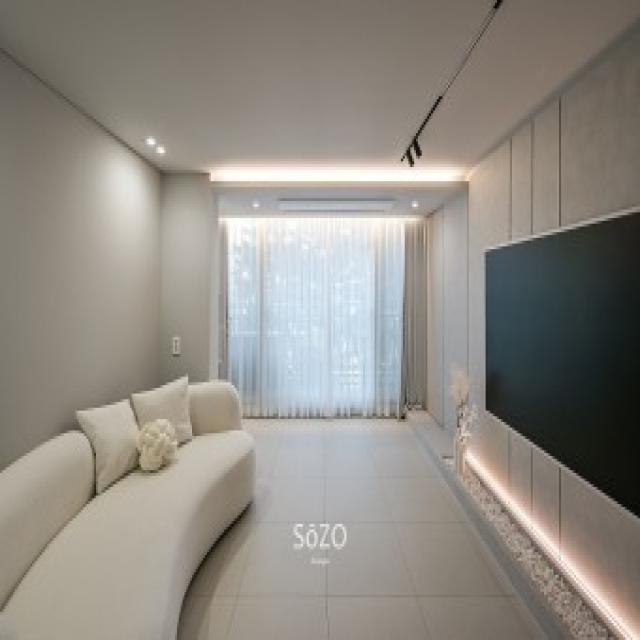Sofa: (0, 371, 265, 640)
tv: (485, 214, 640, 512)
window: (213, 210, 434, 411)
